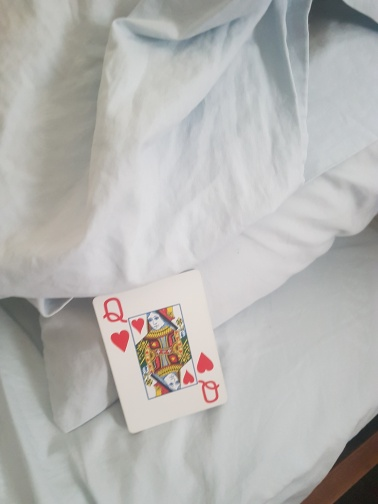queen: (94, 271, 227, 433)
